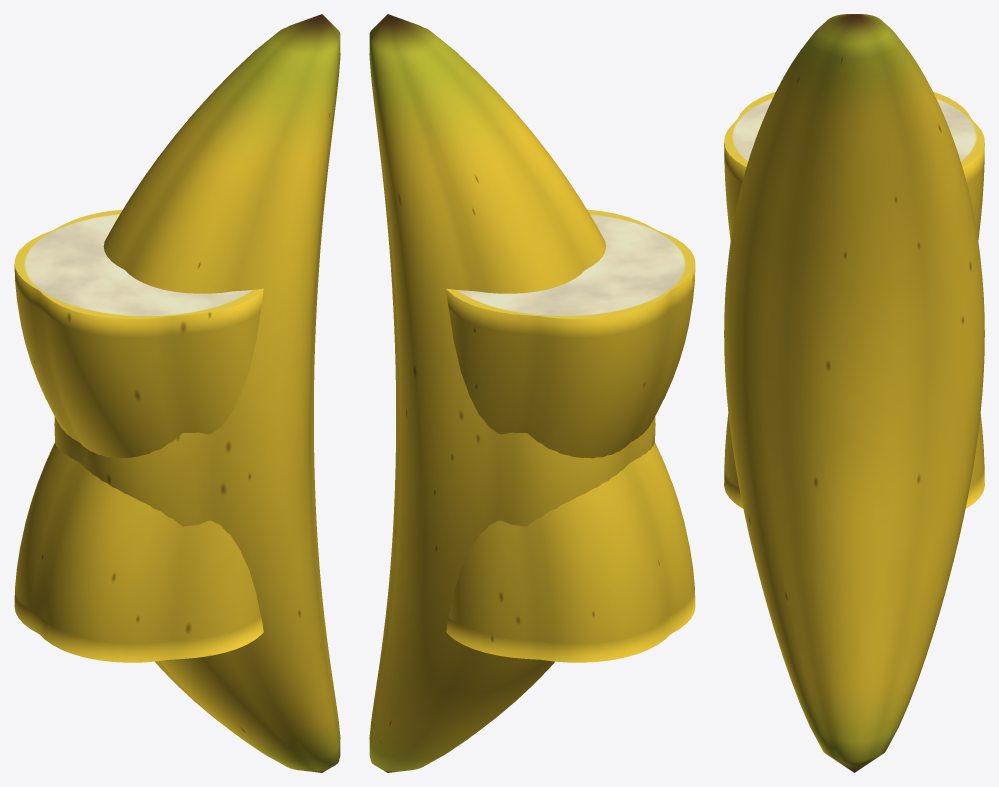
File: banana.glb
3 views of the same model, side by side, from view 1: azimuth 30°, elevation 25°; view 2: azimuth 150°, elevation 25°; view 3: azimuth 270°, elevation 25° (orthographic).
Parts seen in each view (by area): view 1: whole, bot, top; view 2: whole, bot, top; view 3: whole, bot, top.
Boxes of the visible parts, <box> form: whole: <box>54,14,340,772</box>; bot: <box>14,209,263,458</box>; top: <box>14,443,263,662</box>; whole: <box>369,14,655,772</box>; bot: <box>446,209,695,458</box>; top: <box>446,443,695,662</box>; whole: <box>724,14,984,772</box>; bot: <box>724,92,984,239</box>; top: <box>724,414,984,508</box>.
Bounding box in the file's own units: 0.363 × 0.88 × 0.2742.
Materials: 2 (2 with a texture image).
